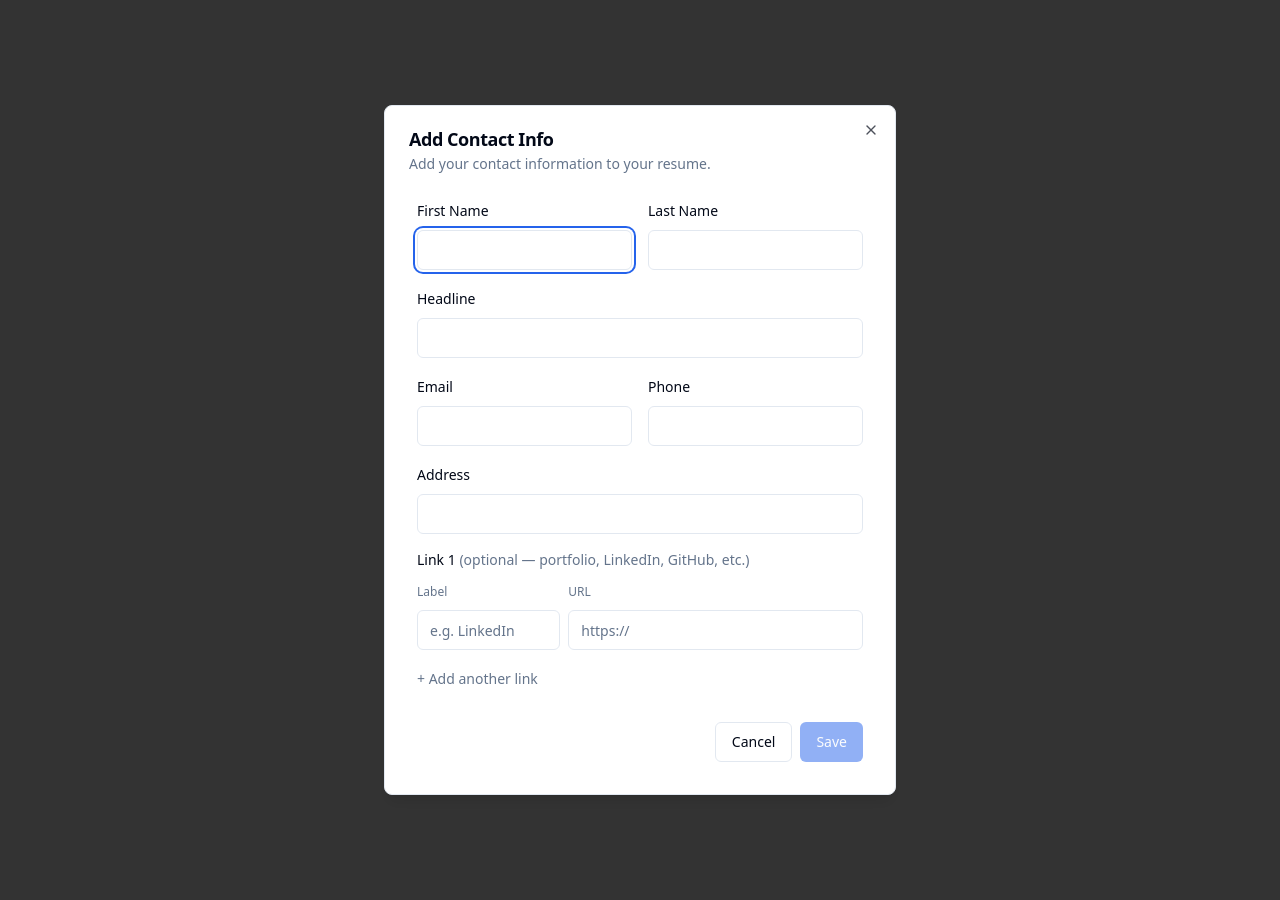
Test: AddContactInfo Component › validation › blocks submission and reports a malformed email
Step 1. Type "Grace" into the field labelled "First Name" → {"x": 524, "y": 250}, box [417,230,632,270]
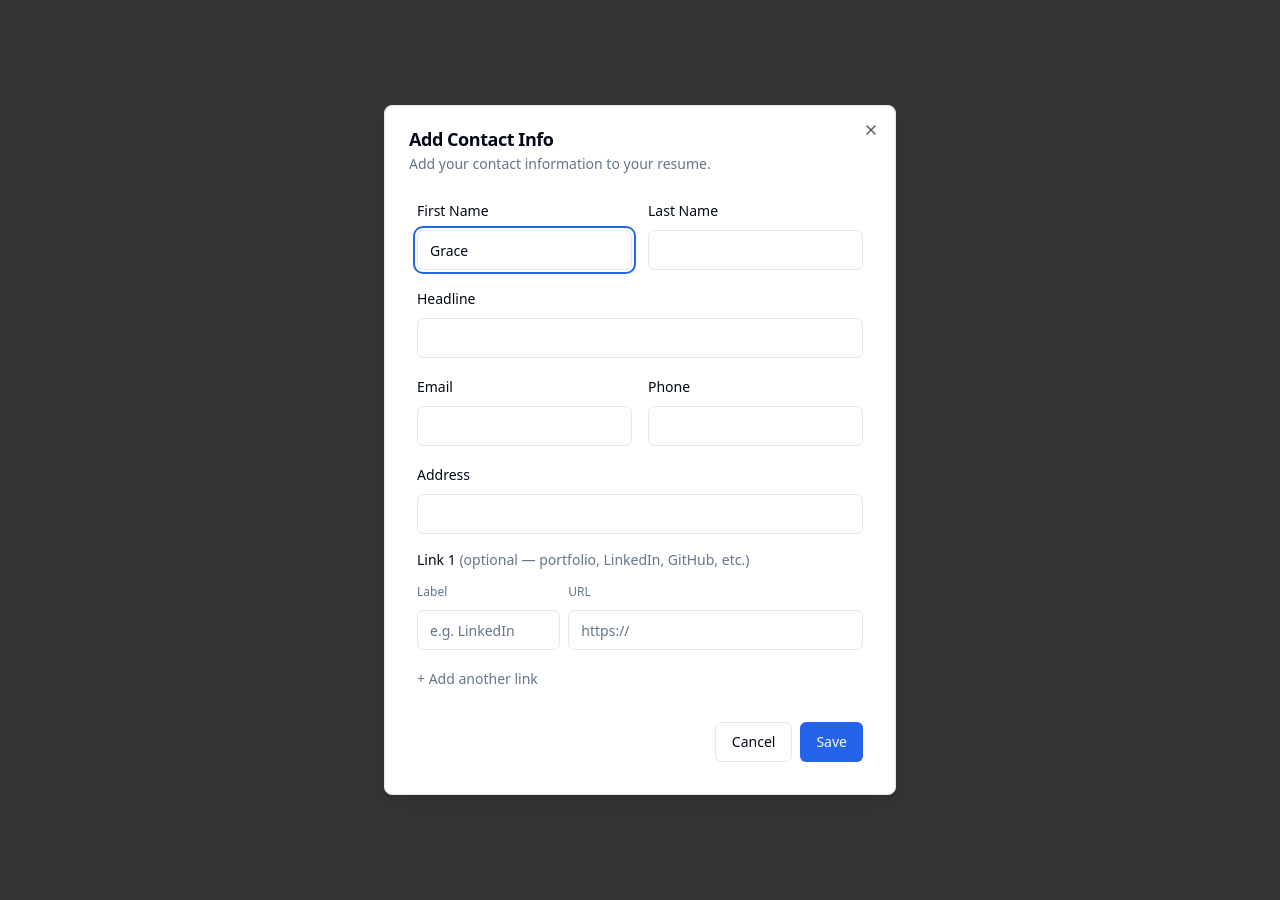
Step 2. Type "Hopper" into the field labelled "Last Name" → {"x": 756, "y": 250}, box [648,230,863,270]
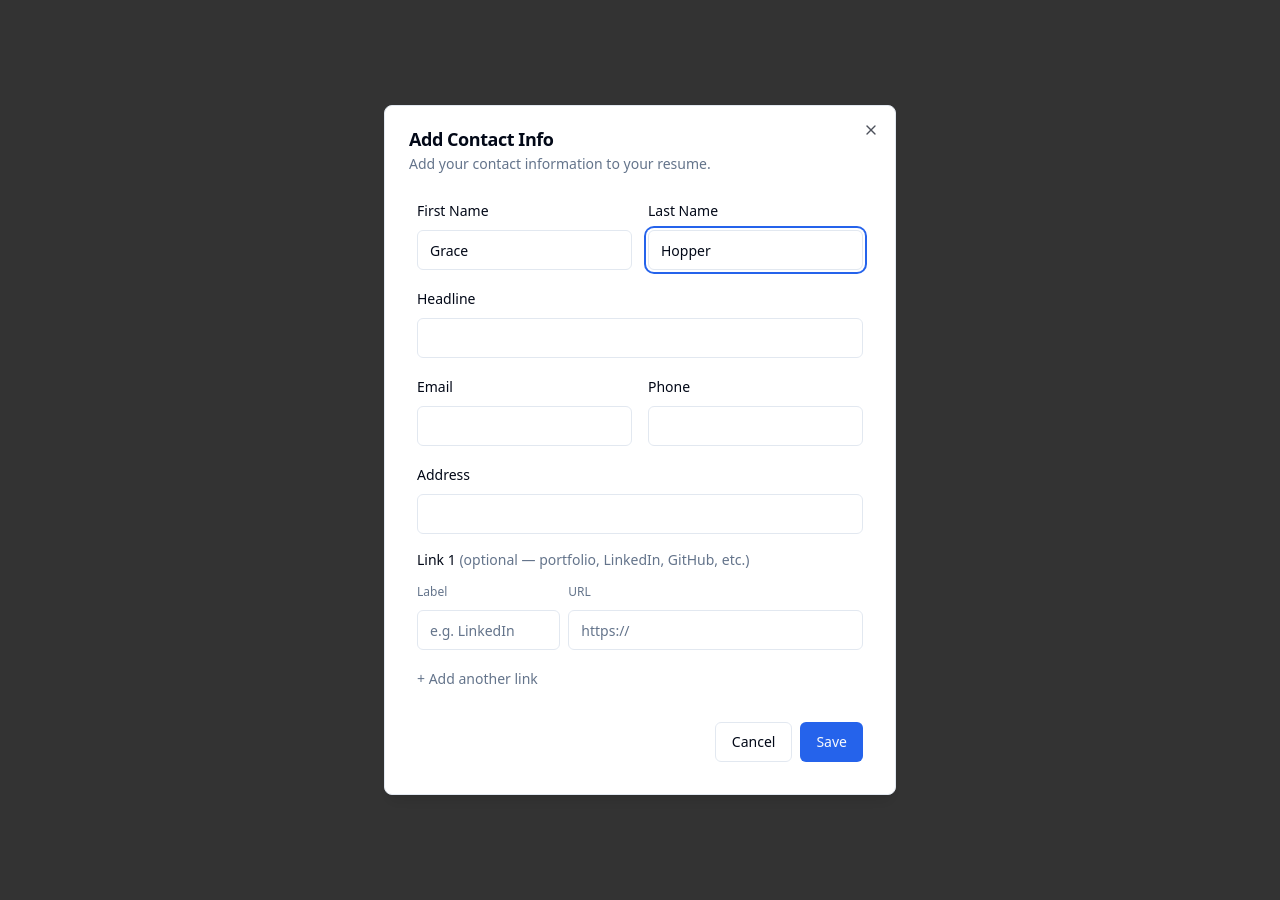
Step 3. Type "Rear Admiral" into the field labelled "Headline" → {"x": 640, "y": 338}, box [417,318,863,358]
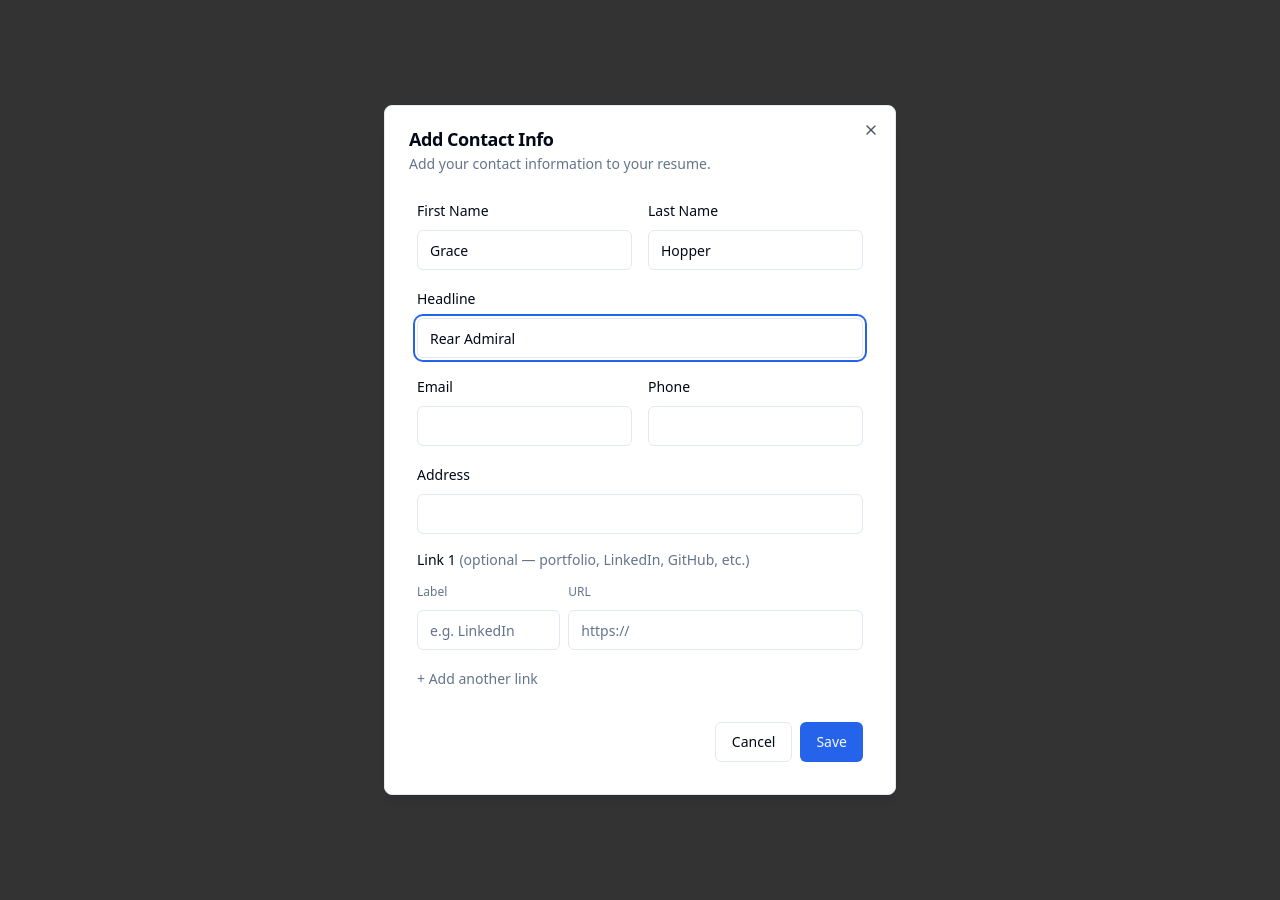
Step 4. Type "not-an-email" into the field labelled "Email" → {"x": 524, "y": 426}, box [417,406,632,446]
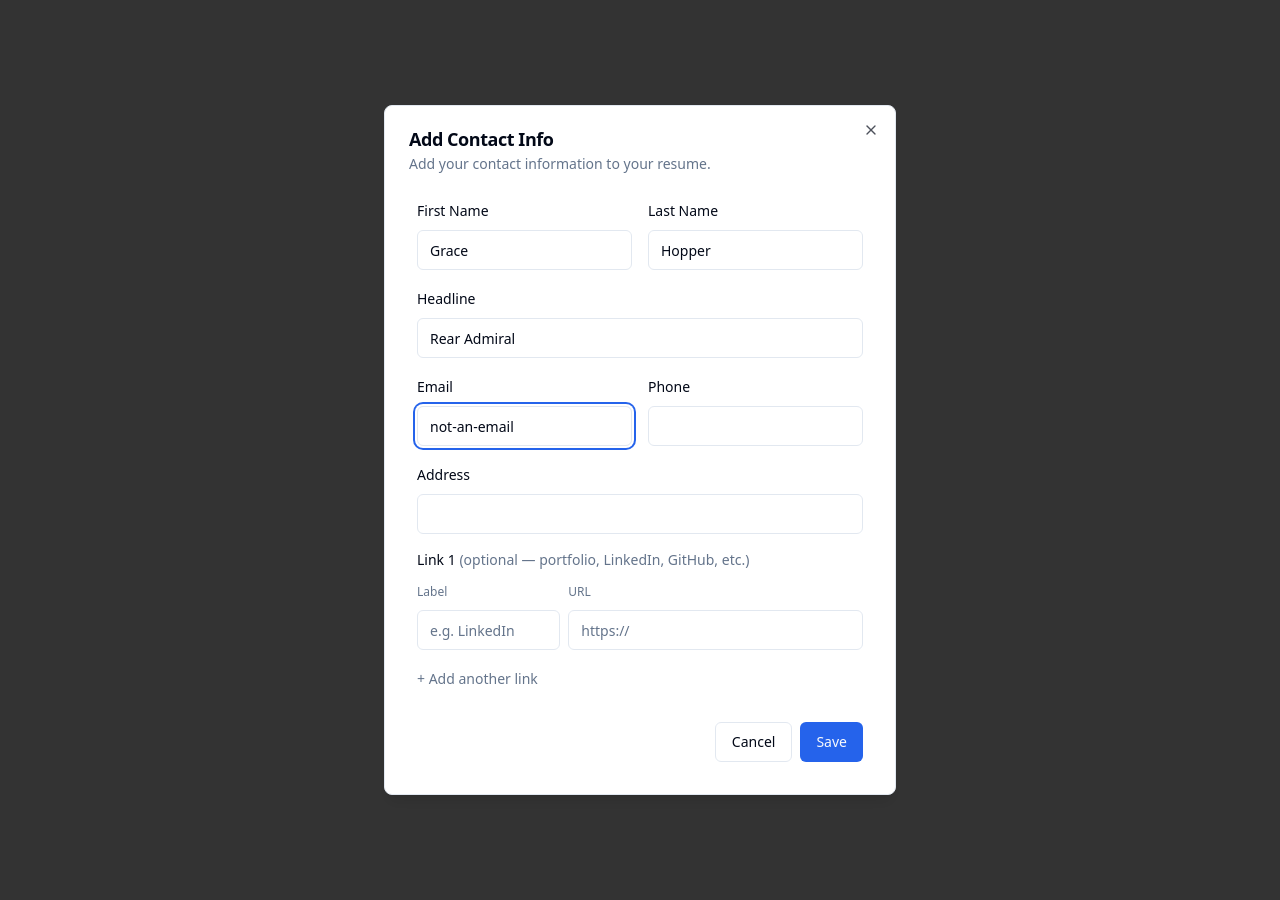
Step 5. Type "555-0199" into the field labelled "Phone" → {"x": 756, "y": 426}, box [648,406,863,446]
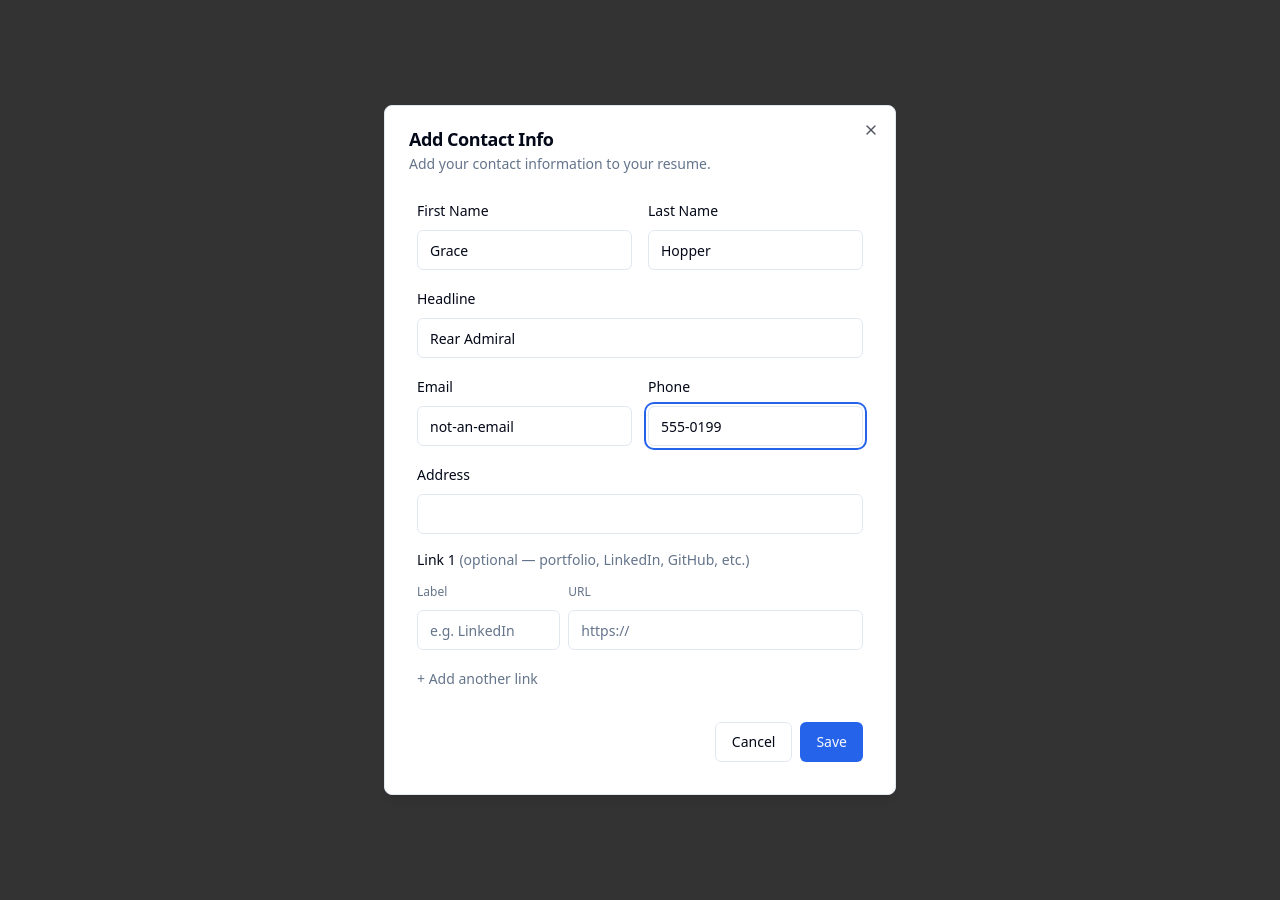
Step 6. Click the button "Save" → {"x": 832, "y": 742}, box [800,722,863,762]
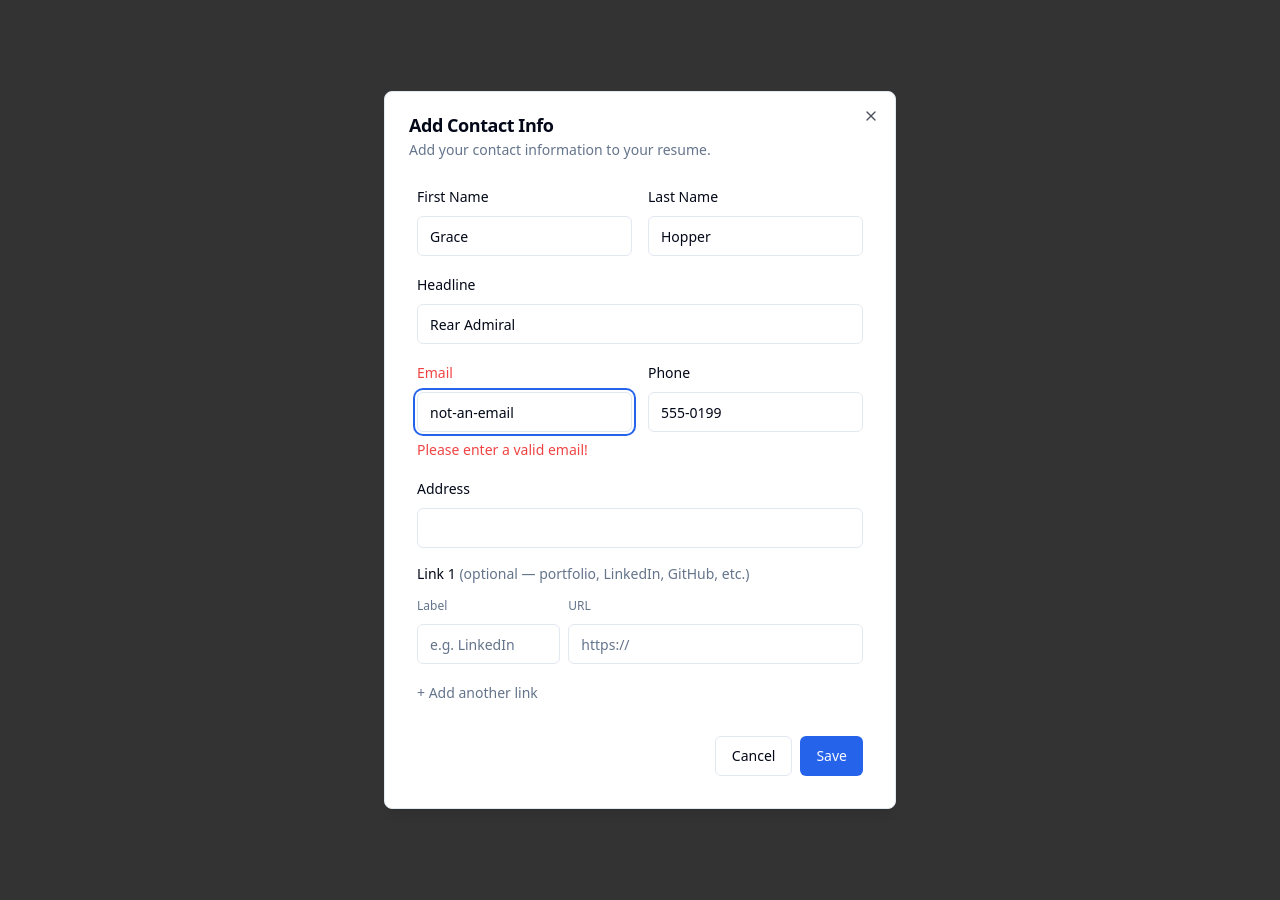
Check: the text "Please enter a valid email!" is shown, box [417,440,588,459]
